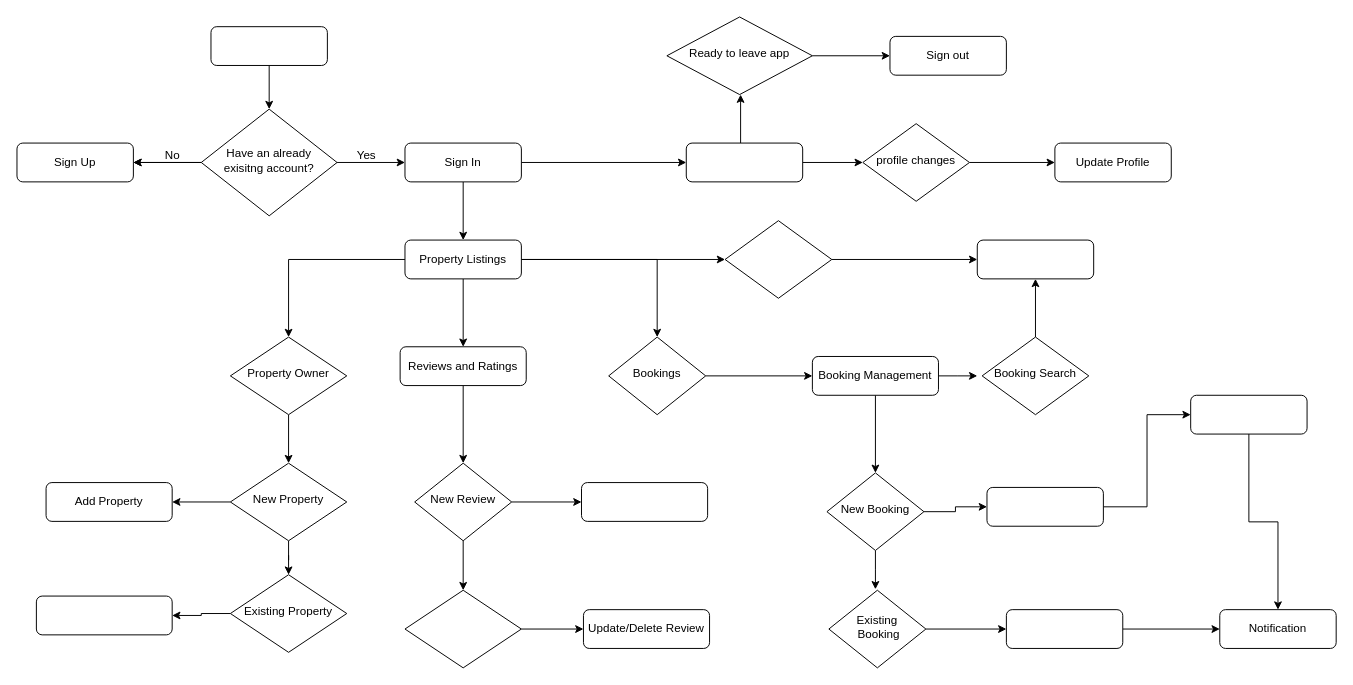
Image size: 1353x685. Some labels were removed from this diagram. Here are the shapes that lost their labels. From the top down, the centre of each, then its label:
pixel 268 45: User Management
pixel 744 162: Profile Management
pixel 778 259: property search
pixel 1035 259: Search and Filtering
pixel 1248 414: Payment
pixel 644 501: Add Review
pixel 1044 506: Book Property
pixel 103 615: Update/Delete Property
pixel 462 628: Existing Review
pixel 1064 628: Update/Cancel Booking
